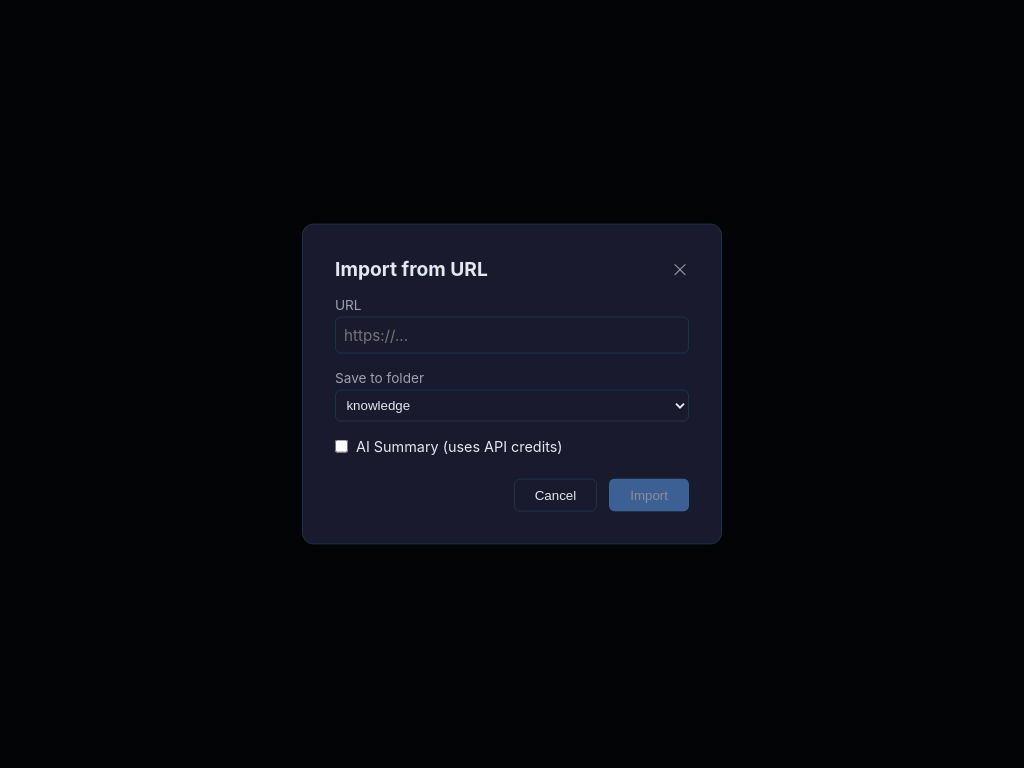
Test: components/LinkIngestDialog.vue › detects YouTube URL type
This screenshot has width=1024, height=768.
In the field with class "link-dialog__input": [512, 335] box [335,317,689,354], type "https://youtu.be/dQw4w9WgXcQ"
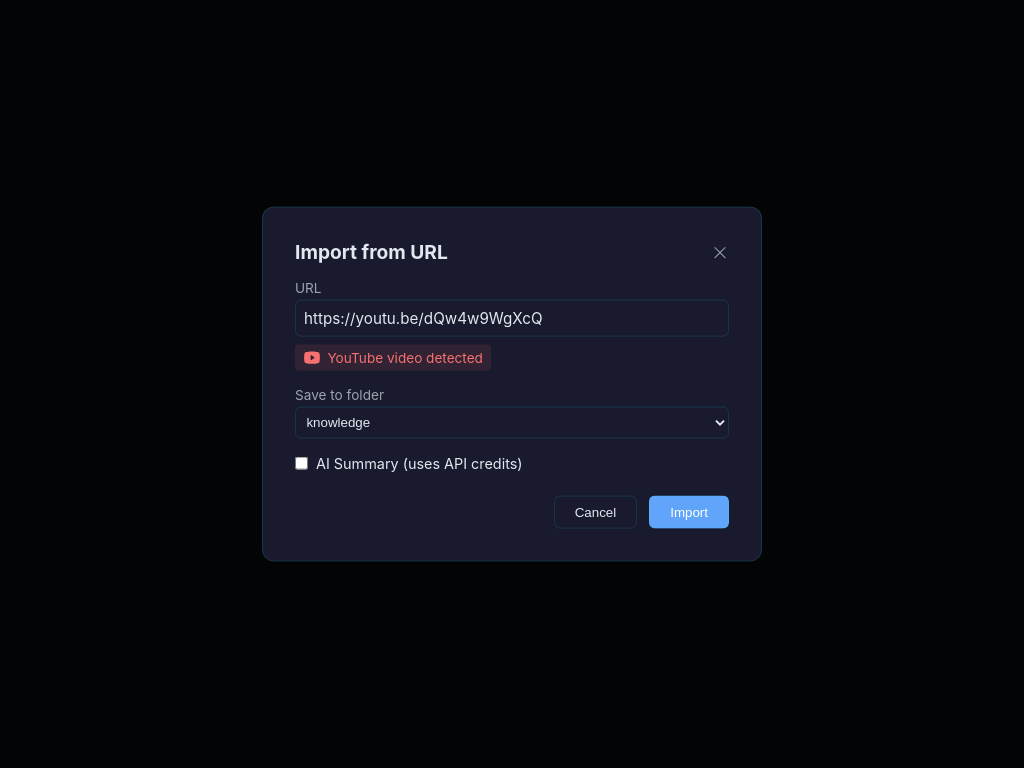
Now the element with class "link-dialog__badge--yt" is shown, box [295,345,491,371]
